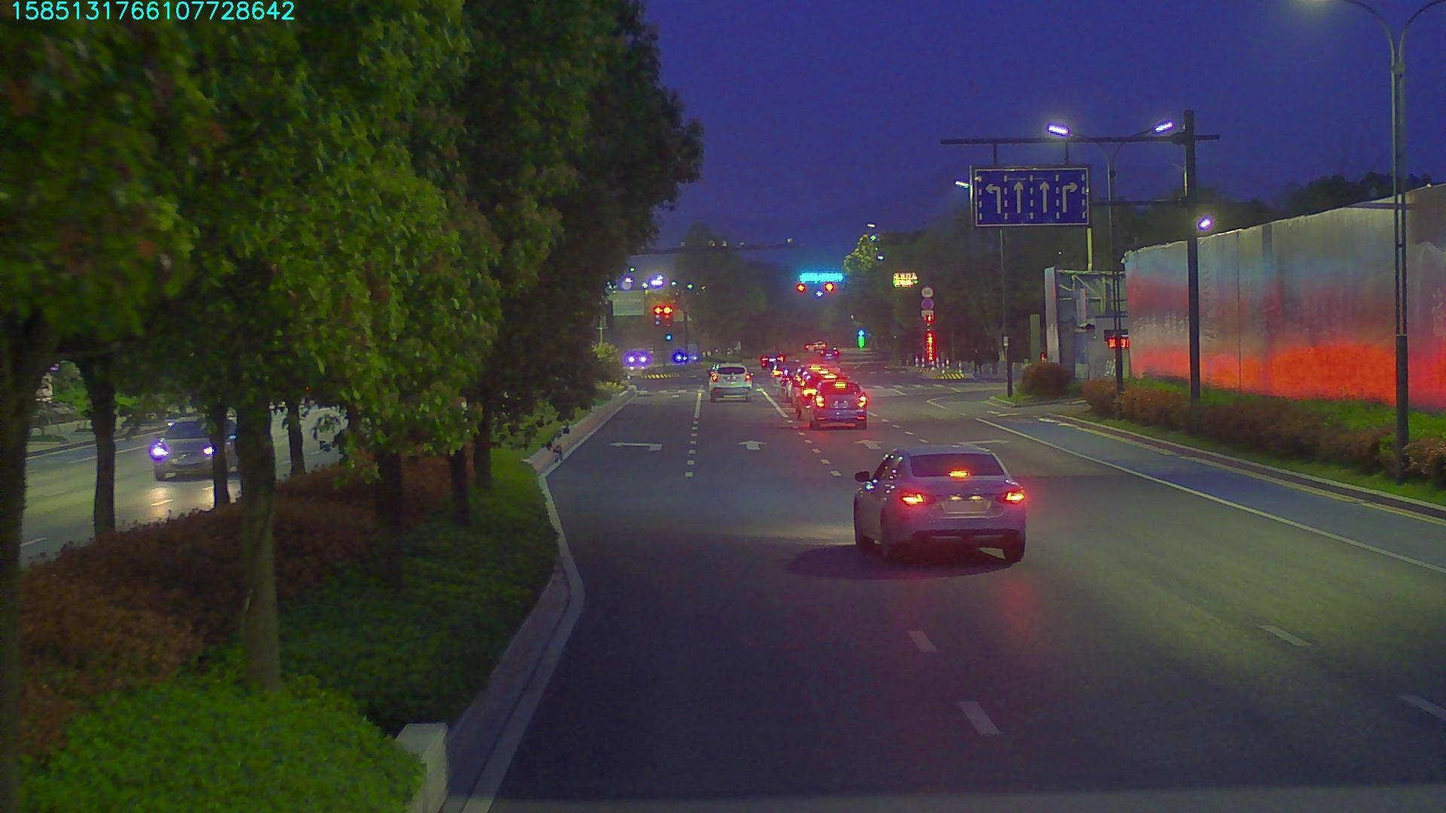red: (820, 282, 834, 297), (795, 279, 807, 292)
wait_on: (798, 269, 842, 282)
